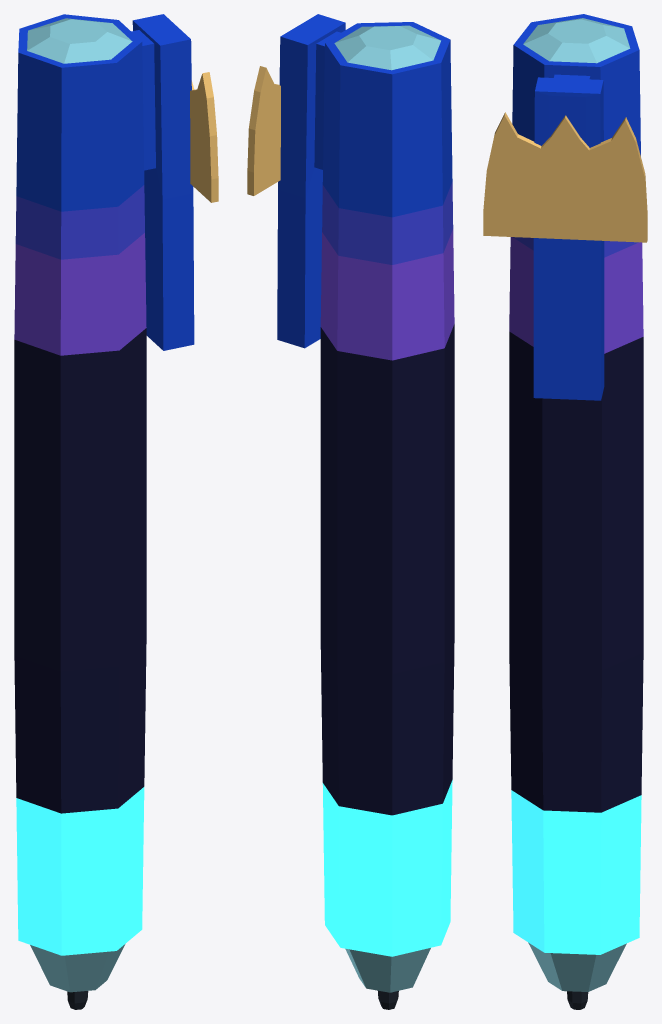
The model's file is BucklePrinceNoveltyPen.001.fbx.
3 views of the same model, side by side, from view 1: azimuth 30°, elevation 25°; view 2: azimuth 150°, elevation 25°; view 3: azimuth 270°, elevation 25° (orthographic).
Visible parts, largest first — view 1: BucklePrinceNoveltyPen.001; view 2: BucklePrinceNoveltyPen.001; view 3: BucklePrinceNoveltyPen.001.
Part boxes in pixels (x1,y1,x2,y2): BucklePrinceNoveltyPen.001: (14, 14, 218, 1009); BucklePrinceNoveltyPen.001: (247, 14, 454, 1009); BucklePrinceNoveltyPen.001: (483, 14, 647, 1009).
Bounding box in the file's own units: 13.62 × 75.96 × 11.62.
